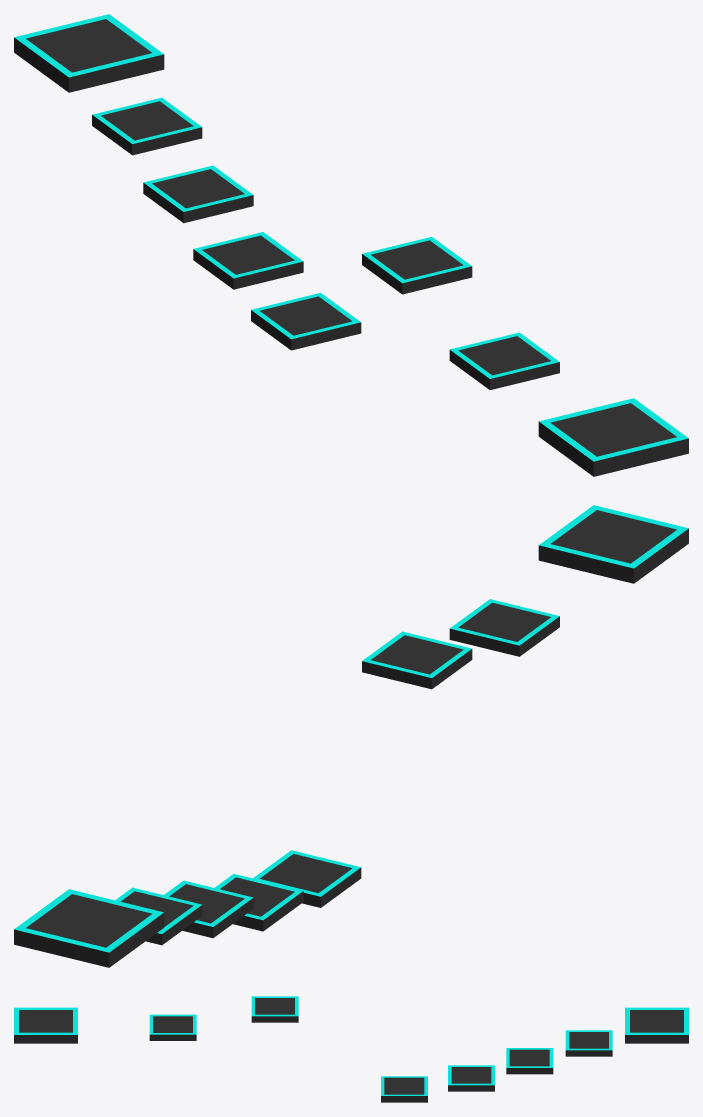
The model's file is Level1.fbx.
3 views of the same model, one above another, from view 1: azimuth 30°, elevation 25°; view 2: azimuth 150°, elevation 25°; view 3: azimuth 270°, elevation 25° (orthographic). The views are drawn at different scales.
Parts seen in each view (by area): view 1: Start, Ziel, Start.006, Start.001, Start.002, Start.003, Start.004, Start.005; view 2: Start, Ziel, Start.001, Start.002, Start.003, Start.006, Start.004, Start.005; view 3: Start, Ziel, Start.002, Start.005, Start.001, Start.006, Start.003, Start.004.
Boxes of the visible parts, left/top/right/bottom form: Start: left=538, top=398, right=688, bottom=476; Ziel: left=14, top=14, right=164, bottom=92; Start.006: left=143, top=165, right=253, bottom=223; Start.001: left=449, top=332, right=559, bottom=389; Start.002: left=362, top=237, right=472, bottom=294; Start.003: left=251, top=293, right=361, bottom=350; Start.004: left=193, top=232, right=303, bottom=289; Start.005: left=92, top=97, right=202, bottom=155; Start: left=538, top=505, right=688, bottom=583; Ziel: left=14, top=889, right=164, bottom=967; Start.001: left=449, top=599, right=559, bottom=656; Start.002: left=362, top=631, right=472, bottom=689; Start.003: left=253, top=850, right=361, bottom=907; Start.006: left=164, top=880, right=253, bottom=937; Start.004: left=214, top=874, right=303, bottom=931; Start.005: left=115, top=887, right=202, bottom=945; Start: left=14, top=1007, right=77, bottom=1043; Ziel: left=625, top=1007, right=688, bottom=1043; Start.002: left=251, top=996, right=298, bottom=1022; Start.005: left=565, top=1030, right=612, bottom=1056; Start.001: left=149, top=1014, right=196, bottom=1040; Start.006: left=506, top=1048, right=553, bottom=1074; Start.003: left=381, top=1076, right=427, bottom=1102; Start.004: left=448, top=1065, right=494, bottom=1091.
Size of the model in its own units: 60.98 by 90.85 by 643.
